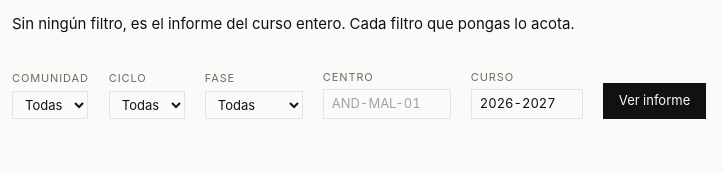
Test: Informes › un fallo se enseña con su mensaje
Click the button "Ver informe": (654, 101) [603,83,706,119]
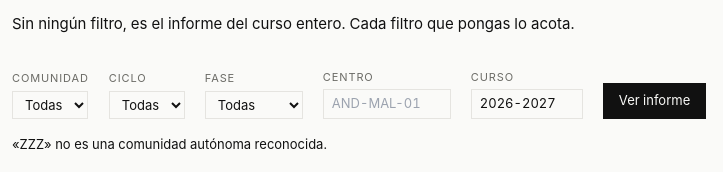
Check: the text "«ZZZ» no es una comunidad autónoma reconocida." is shown, box [12,136,327,152]
